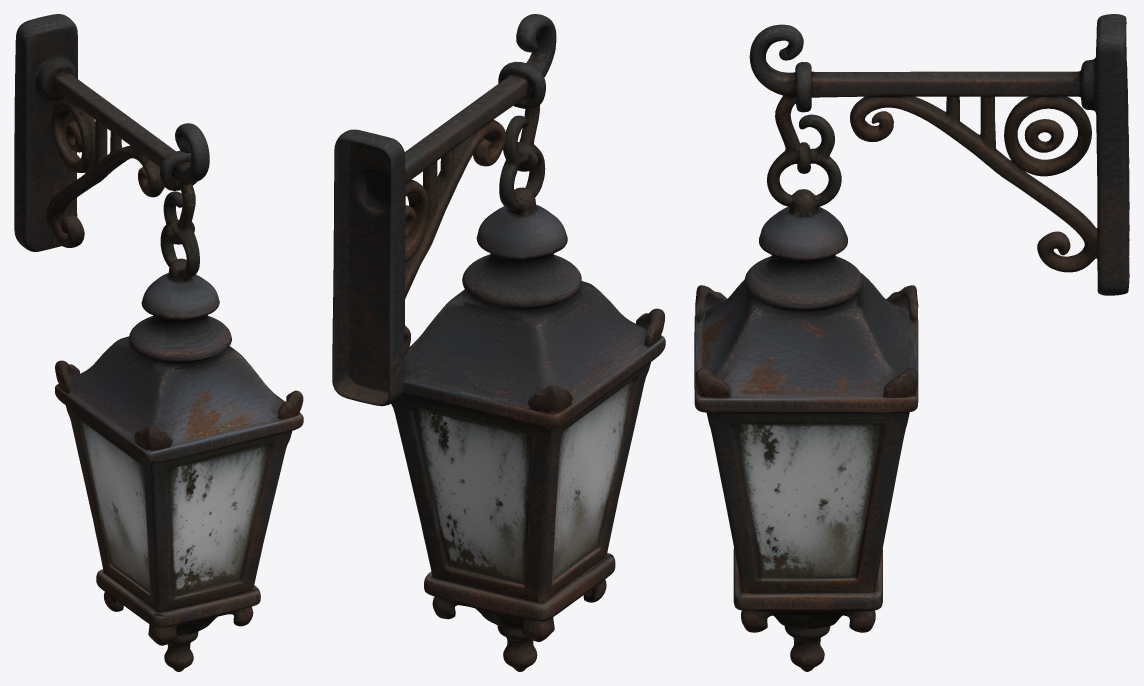
Rendered from lantern.glb.
The picture shows the model from 3 angles, left to right: view 1: azimuth 30°, elevation 25°; view 2: azimuth 150°, elevation 25°; view 3: azimuth 270°, elevation 25°; orthographic projection. The views are drawn at different scales.
Parts seen in each view (by area): view 1: node_0; view 2: node_0; view 3: node_0.
Boxes of the visible parts, x1,y1,x2,y2 form: node_0: (14,14,303,671); node_0: (332,14,665,671); node_0: (694,14,1129,671).
Size of the model in its own units: 0.3069 by 1.03 by 0.6291.
Materials: 1 (1 with a texture image).
